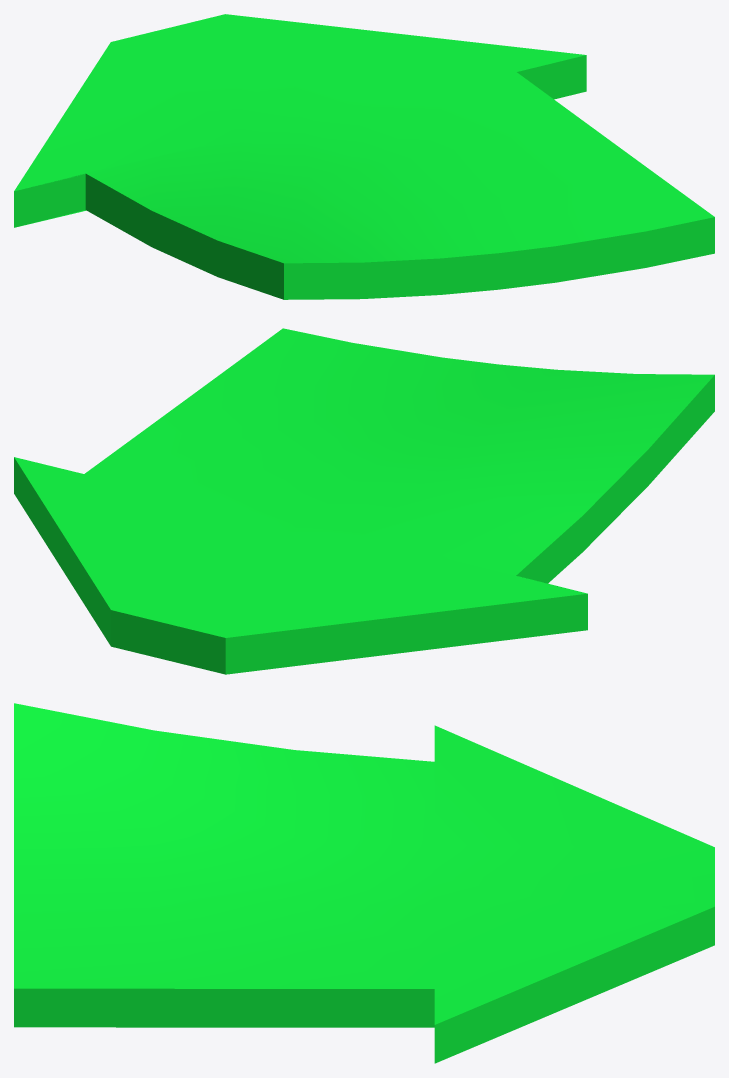
Rendered from post-house-1.fbx.
The picture shows the model from 3 angles, top to bottom: view 1: azimuth 30°, elevation 25°; view 2: azimuth 150°, elevation 25°; view 3: azimuth 270°, elevation 25°; orthographic projection. The views are drawn at different scales.
Visible parts, largest first — view 1: Plane.003; view 2: Plane.003; view 3: Plane.003.
Part boxes in pixels (<box>): Plane.003: <box>14,14,714,299</box>; Plane.003: <box>14,328,714,674</box>; Plane.003: <box>14,703,714,1063</box>.
Bounding box in the file's own units: 200 × 31.93 × 200.
